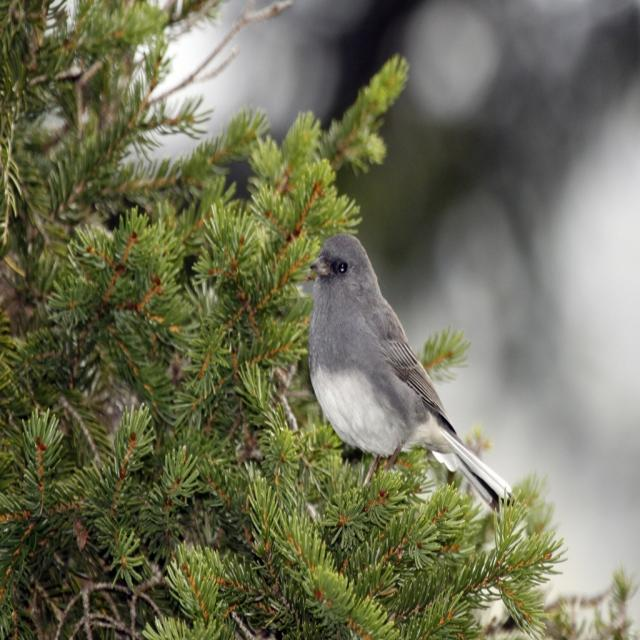bird: (297, 238, 519, 526)
